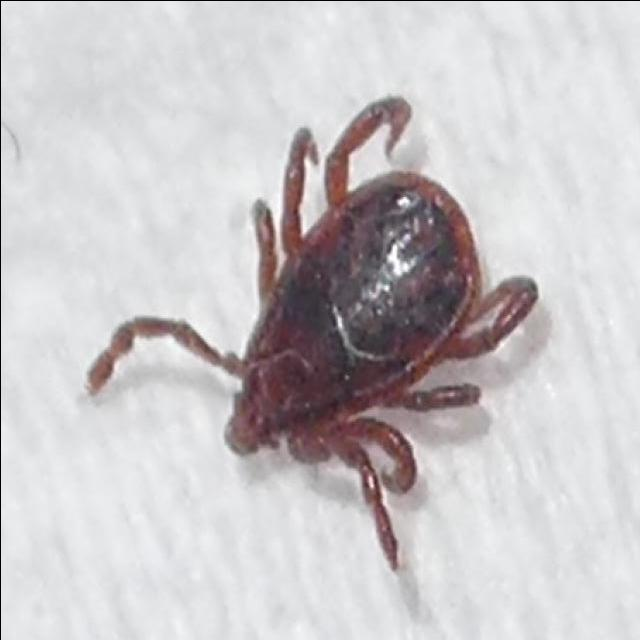Rhipicephalus Sanguineus-M: (85, 96, 540, 573)
